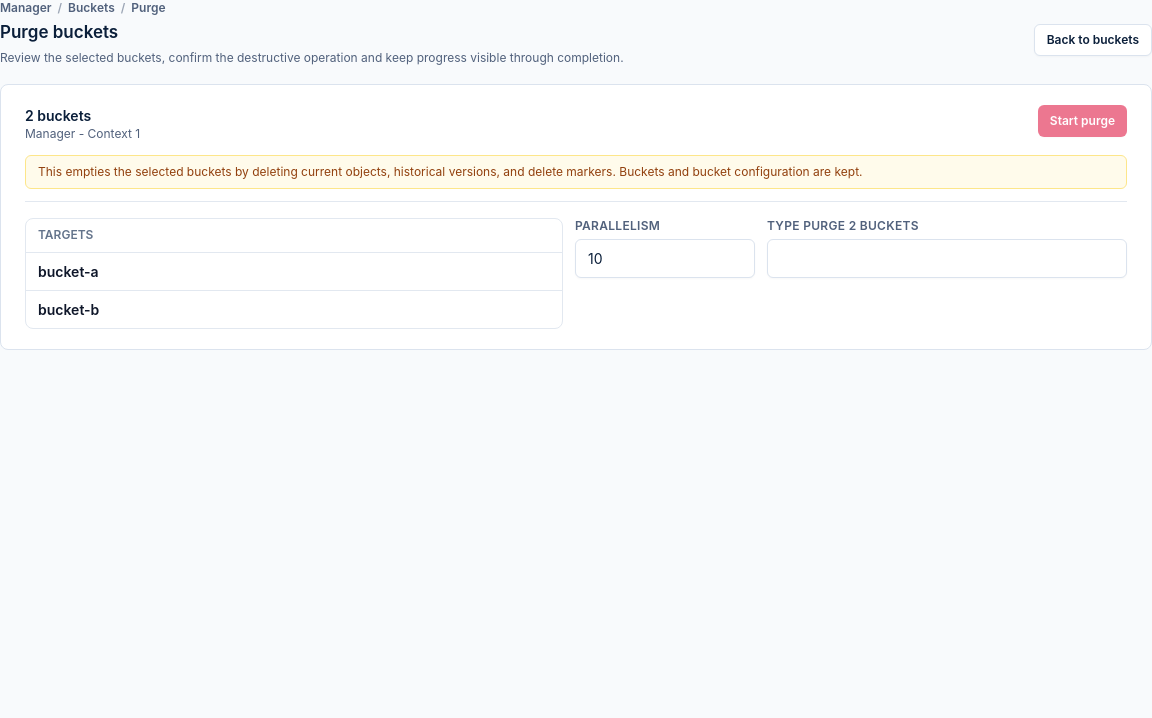
Test: BucketPurgeRunModal › renders expandable bucket purge failures
The image size is (1152, 718).
In the field labelled "Type PURGE 2 BUCKETS": (947, 258) [767, 238, 1127, 278], type "PURGE 2 BUCKETS"
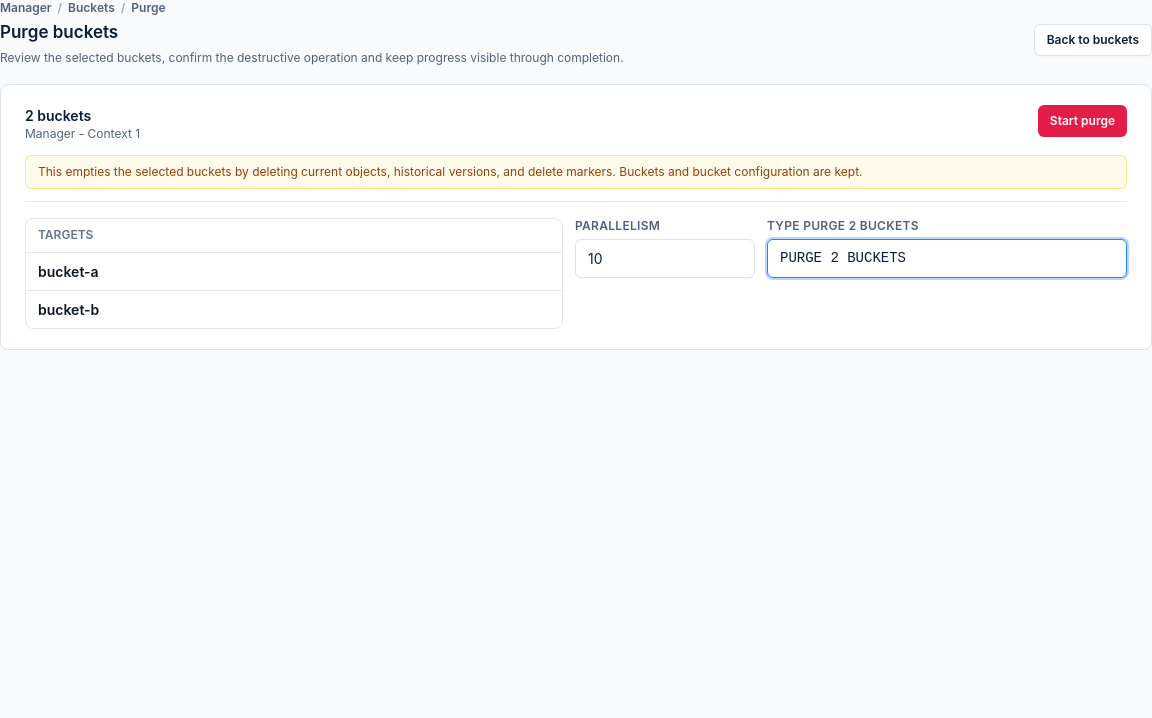
Click the button "Start purge": click(1082, 121) [1038, 105, 1127, 137]
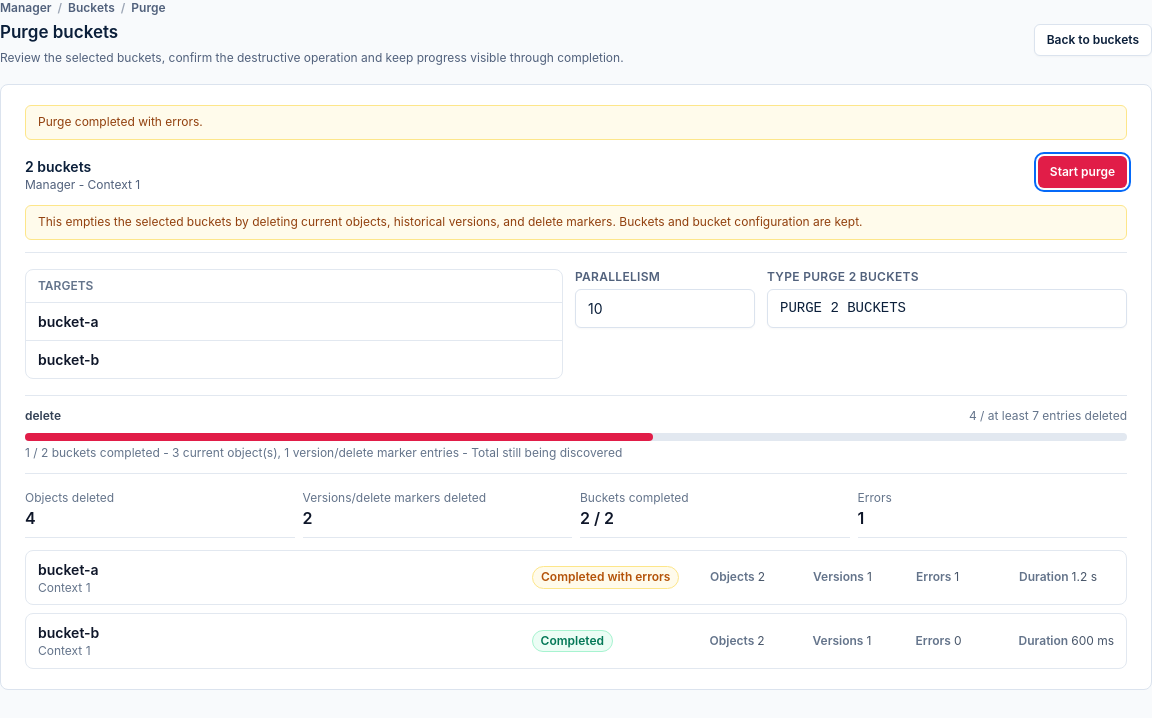
Check: the text "Purge completed with errors." is shown, box [25, 105, 1127, 140]
Click the text "bucket-a" in the row of "1.2 s": click(68, 569) [38, 560, 99, 578]
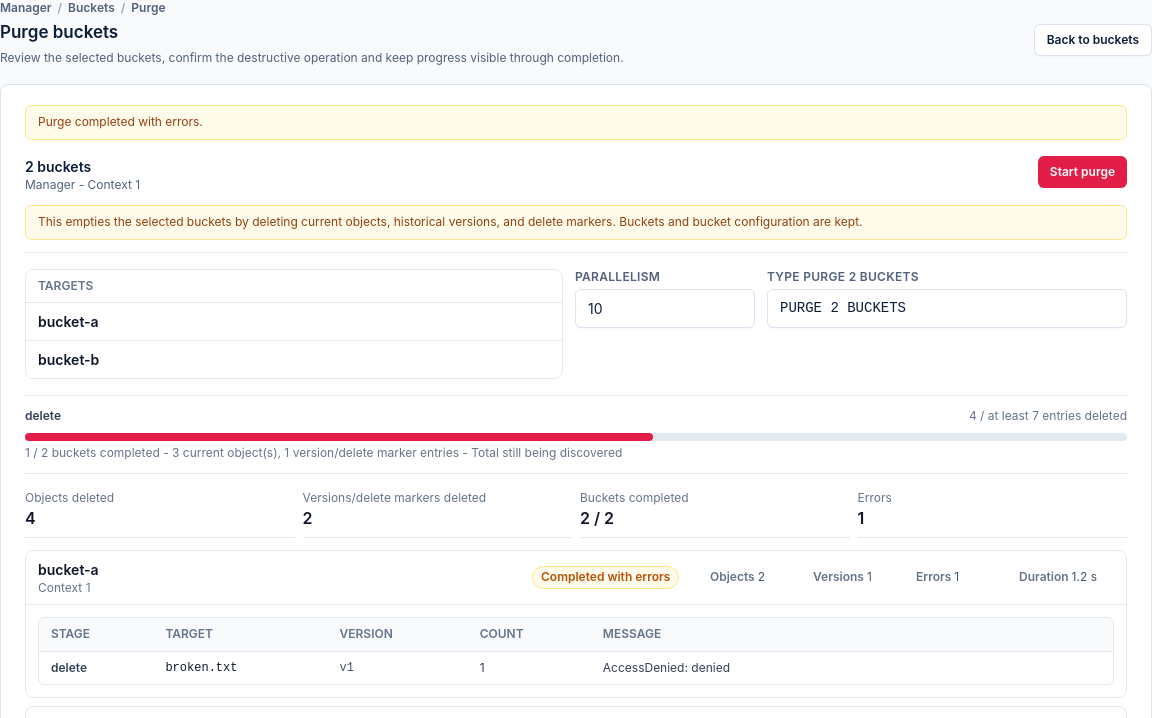
Check: the text "broken.txt" is shown, box [153, 651, 328, 684]
Check: the text "v1" is shown, box [328, 651, 468, 684]
Check: the text "AccessDenied: denied" is shown, box [591, 651, 1113, 684]
